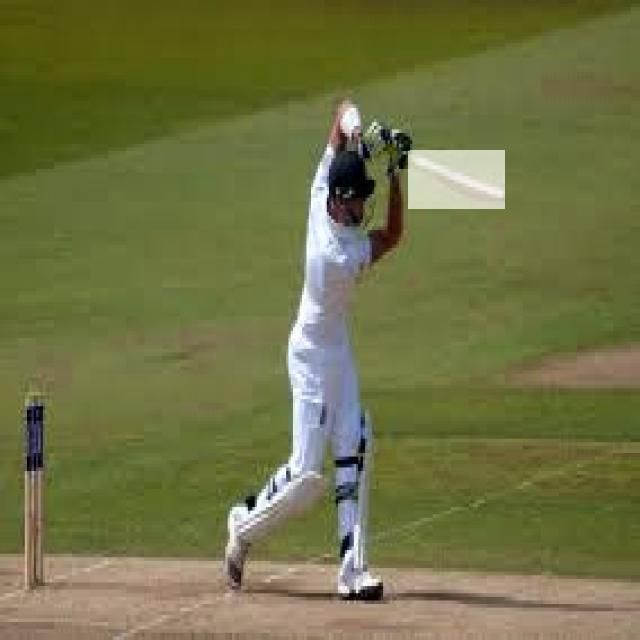bat: (406, 148, 506, 212)
